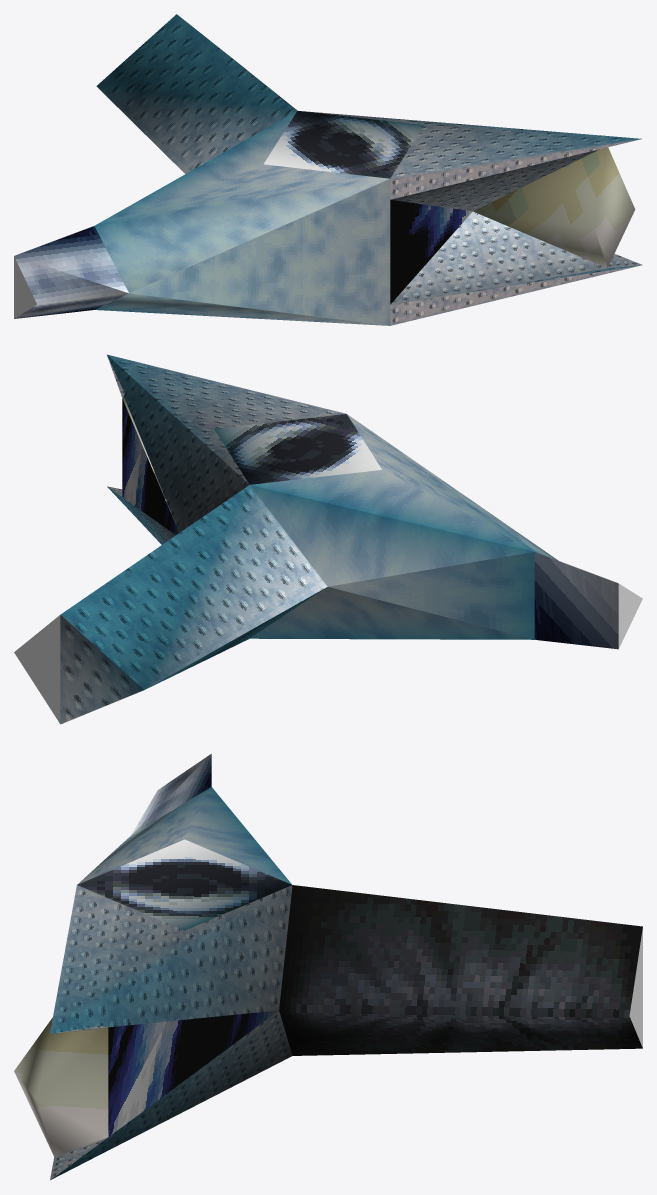
File: 1b-tranquilizer-tp.glb
The picture shows the model from 3 angles, top to bottom: view 1: azimuth 30°, elevation 25°; view 2: azimuth 150°, elevation 25°; view 3: azimuth 270°, elevation 25°; orthographic projection. The views are drawn at different scales.
Visible parts, largest first — view 1: gun; view 2: gun; view 3: gun.
Part boxes in pixels (<box>): gun: <box>14,14,642,325</box>; gun: <box>14,354,642,724</box>; gun: <box>14,754,642,1180</box>.
Bounding box in the file's own units: 201 × 50.48 × 168.
8 materials, 8 textured.
